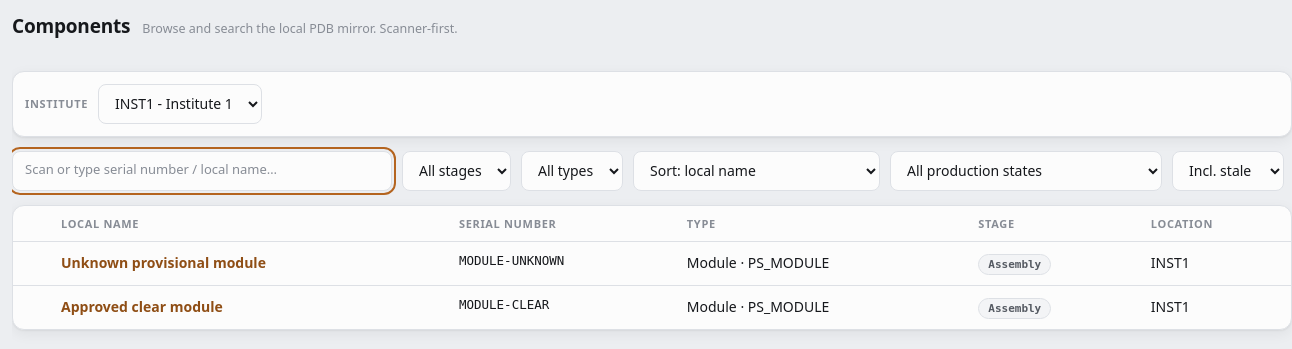
it: includes provisional-only unknown modules in the holds and unassessed filter
expect the button "Unknown provisional module" is shown: met, box [57, 250, 270, 274]
expect the button "Approved clear module" is shown: met, box [57, 294, 227, 318]
Select "Holds, missing tests & unassessed" in the dropdown named "Production status filter" at {"x": 1026, "y": 170}, box [890, 150, 1162, 190]
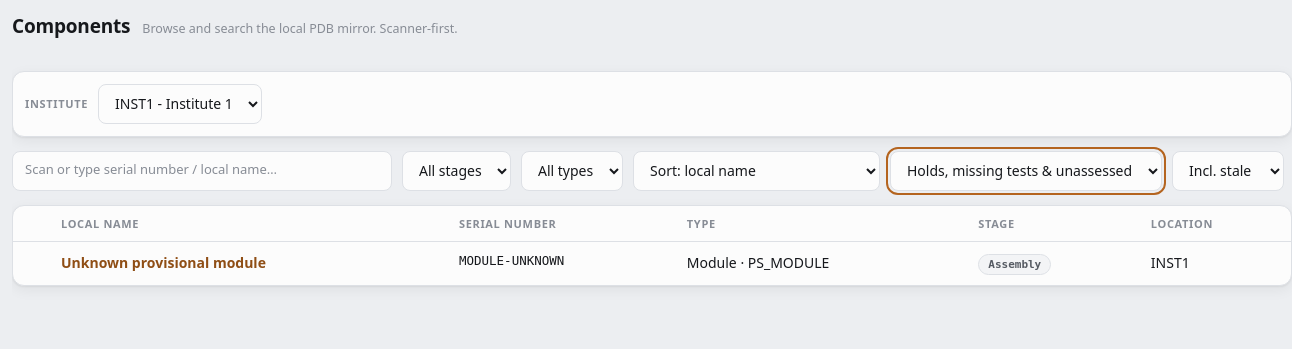
expect the button "Unknown provisional module" is shown: met, box [57, 250, 270, 274]
expect the button "Approved clear module" is gone: met
